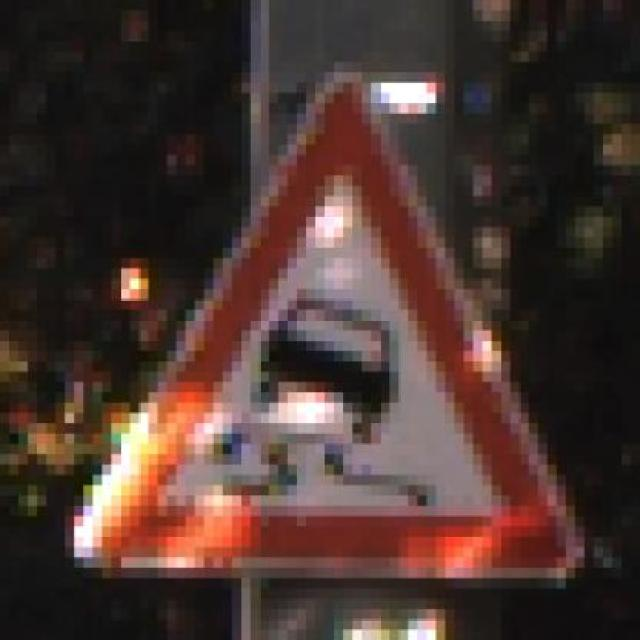Slippery Road Ahead: (65, 61, 584, 598)
